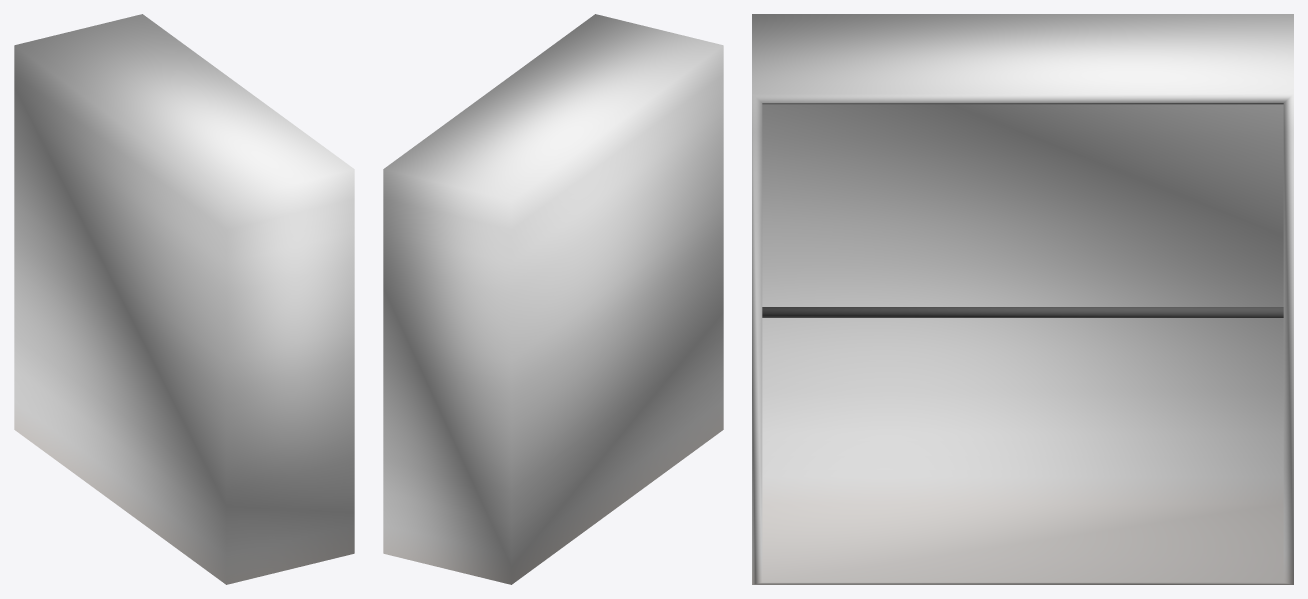
Rendered from ClothingClosetWhite.glb.
3 views of the same model, side by side, from view 1: azimuth 30°, elevation 25°; view 2: azimuth 150°, elevation 25°; view 3: azimuth 270°, elevation 25° (orthographic). The views are drawn at different scales.
Parts seen in each view (by area): view 1: ClothingClosetWhite; view 2: ClothingClosetWhite; view 3: ClothingClosetWhite.
Part boxes in pixels (x1,y1,x2,y2): ClothingClosetWhite: [14, 14, 354, 584]; ClothingClosetWhite: [383, 14, 723, 584]; ClothingClosetWhite: [752, 14, 1293, 584].
Bounding box in the file's own units: 0.6986 × 2 × 2.
Materials: 1 (1 with a texture image).
